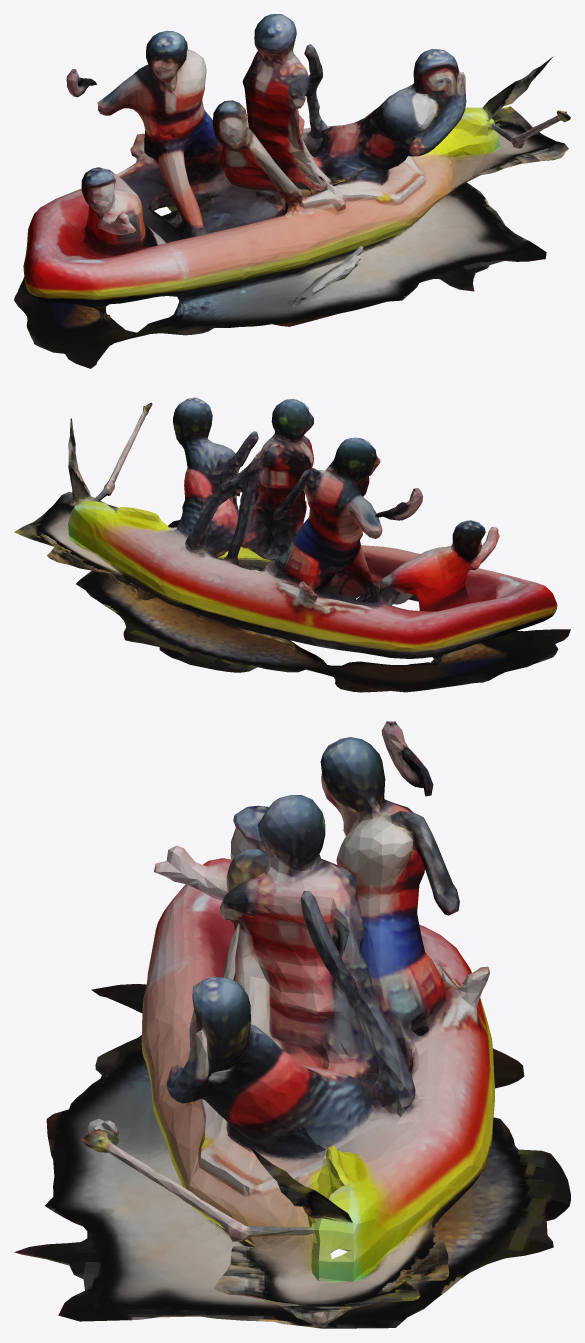
Rendered from ayung-rafting-river.glb.
The picture shows the model from 3 angles, top to bottom: view 1: azimuth 30°, elevation 25°; view 2: azimuth 150°, elevation 25°; view 3: azimuth 270°, elevation 25°; orthographic projection. The views are drawn at different scales.
Visible parts, largest first — view 1: world; view 2: world; view 3: world.
Part boxes in pixels (<box>): world: <box>14,14,570,368</box>; world: <box>14,397,570,692</box>; world: <box>14,721,570,1328</box>.
Bounding box in the file's own units: 1 × 0.4282 × 0.5632.
1 material, 1 textured.
